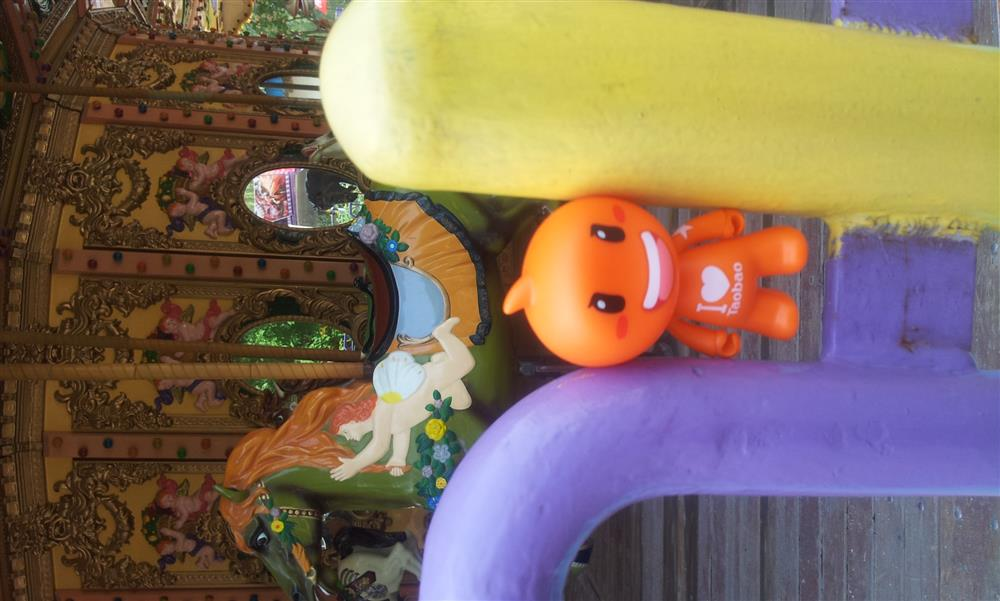toy_taobao: (482, 200, 825, 378)
